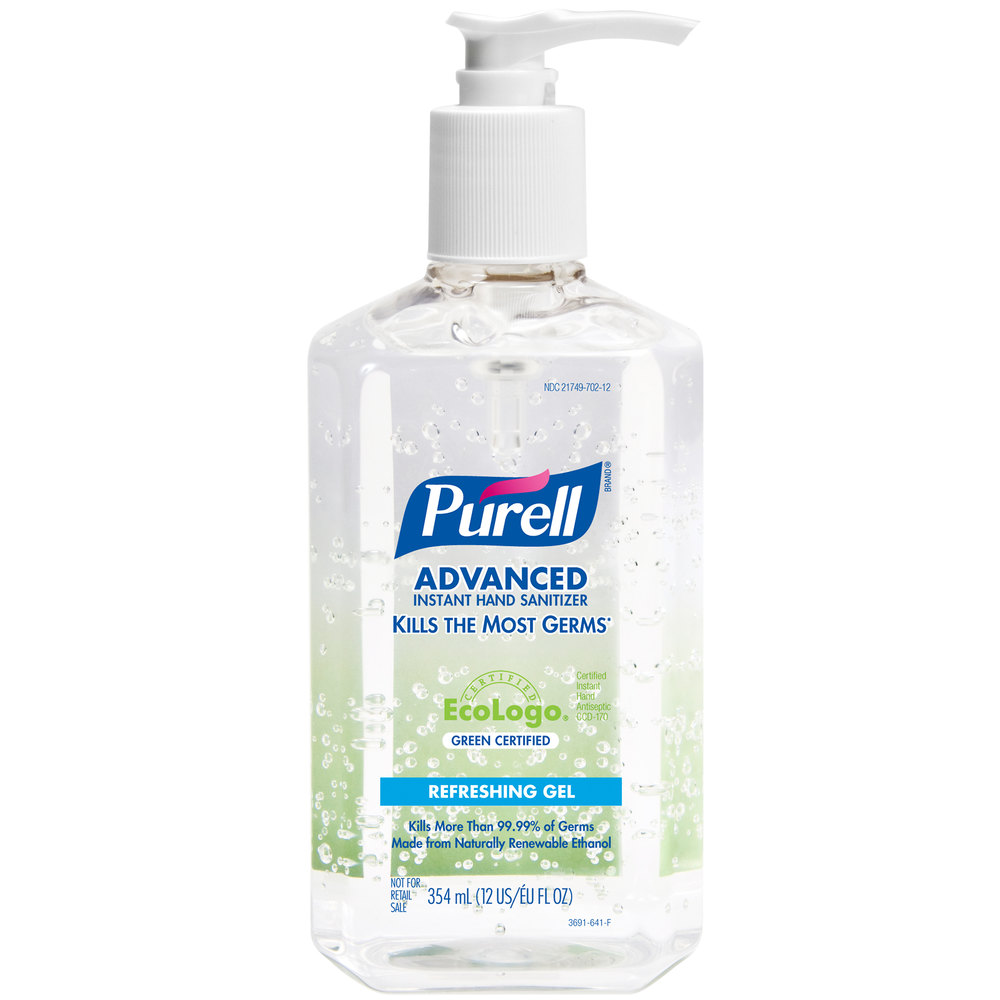Sanitizer: (299, 6, 723, 998)
